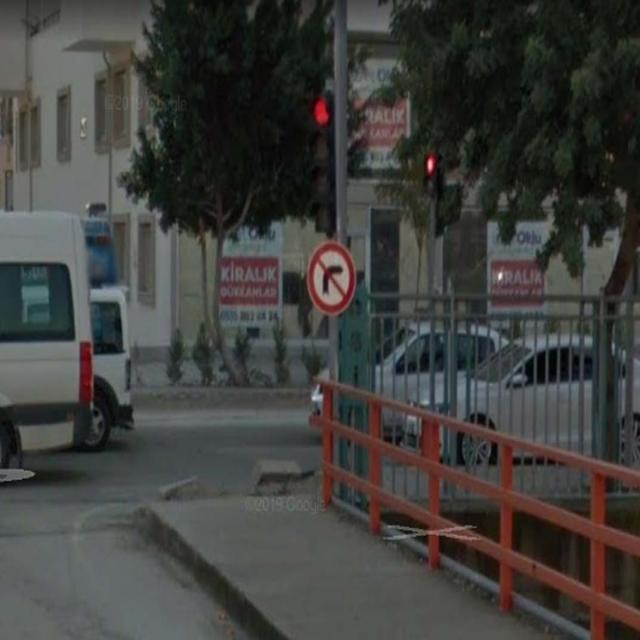kirmizi: (310, 93, 336, 194)
sagadonulmez: (306, 242, 355, 312)
